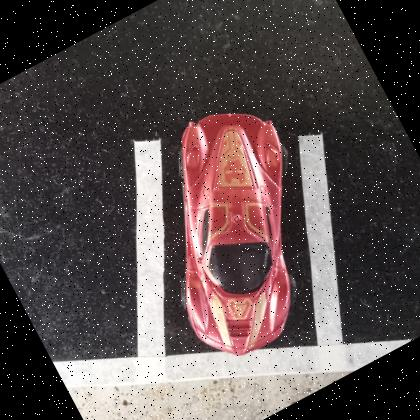Car: (180, 111, 292, 355)
